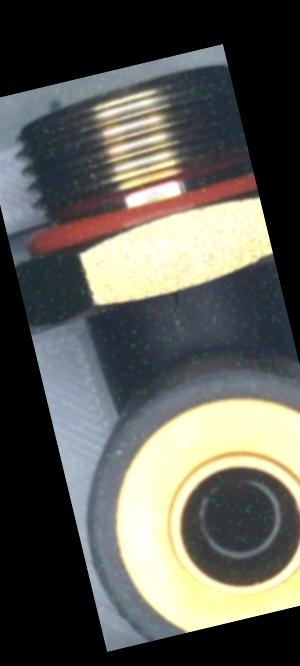craze: (163, 285, 190, 327)
